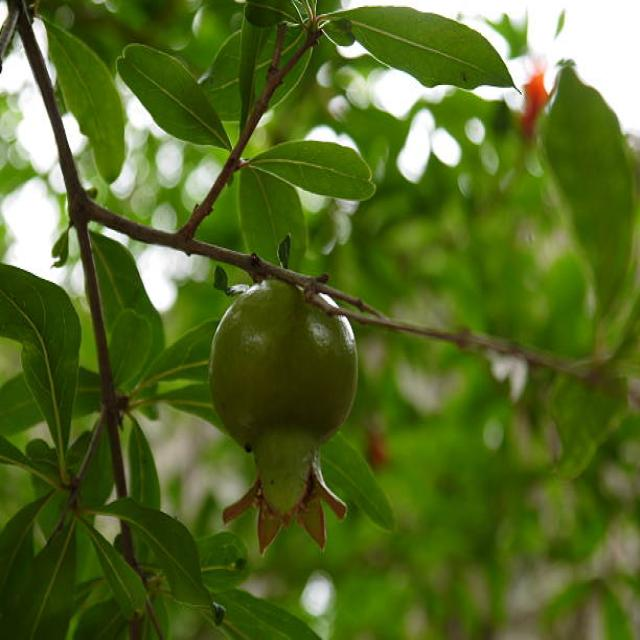Unripe: (208, 269, 356, 554)
